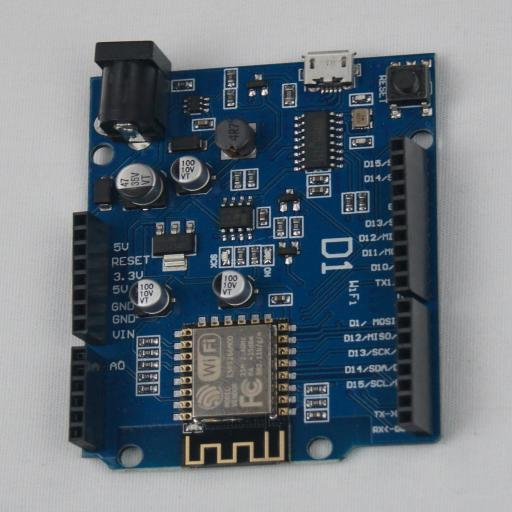Arduino Uno WiFi Shield: (69, 41, 441, 469)
